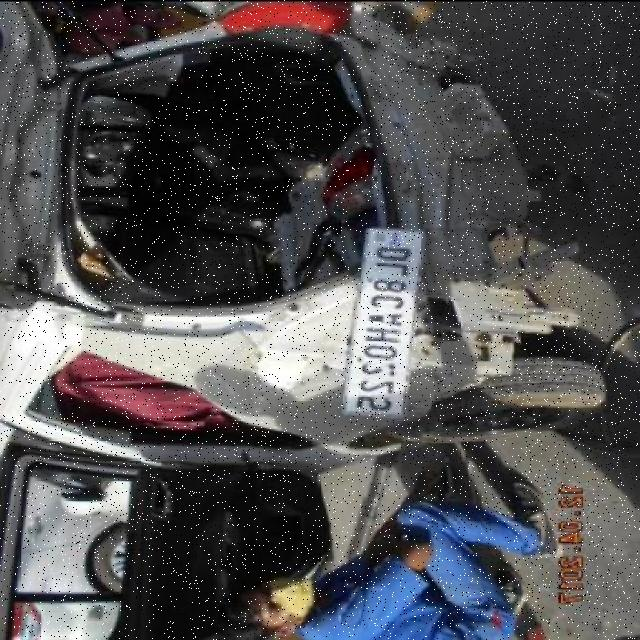damage: (245, 8, 577, 415)
